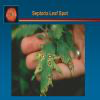Tomato Septoria leaf spot: (31, 43, 61, 96), (56, 35, 75, 76), (12, 25, 46, 42)
